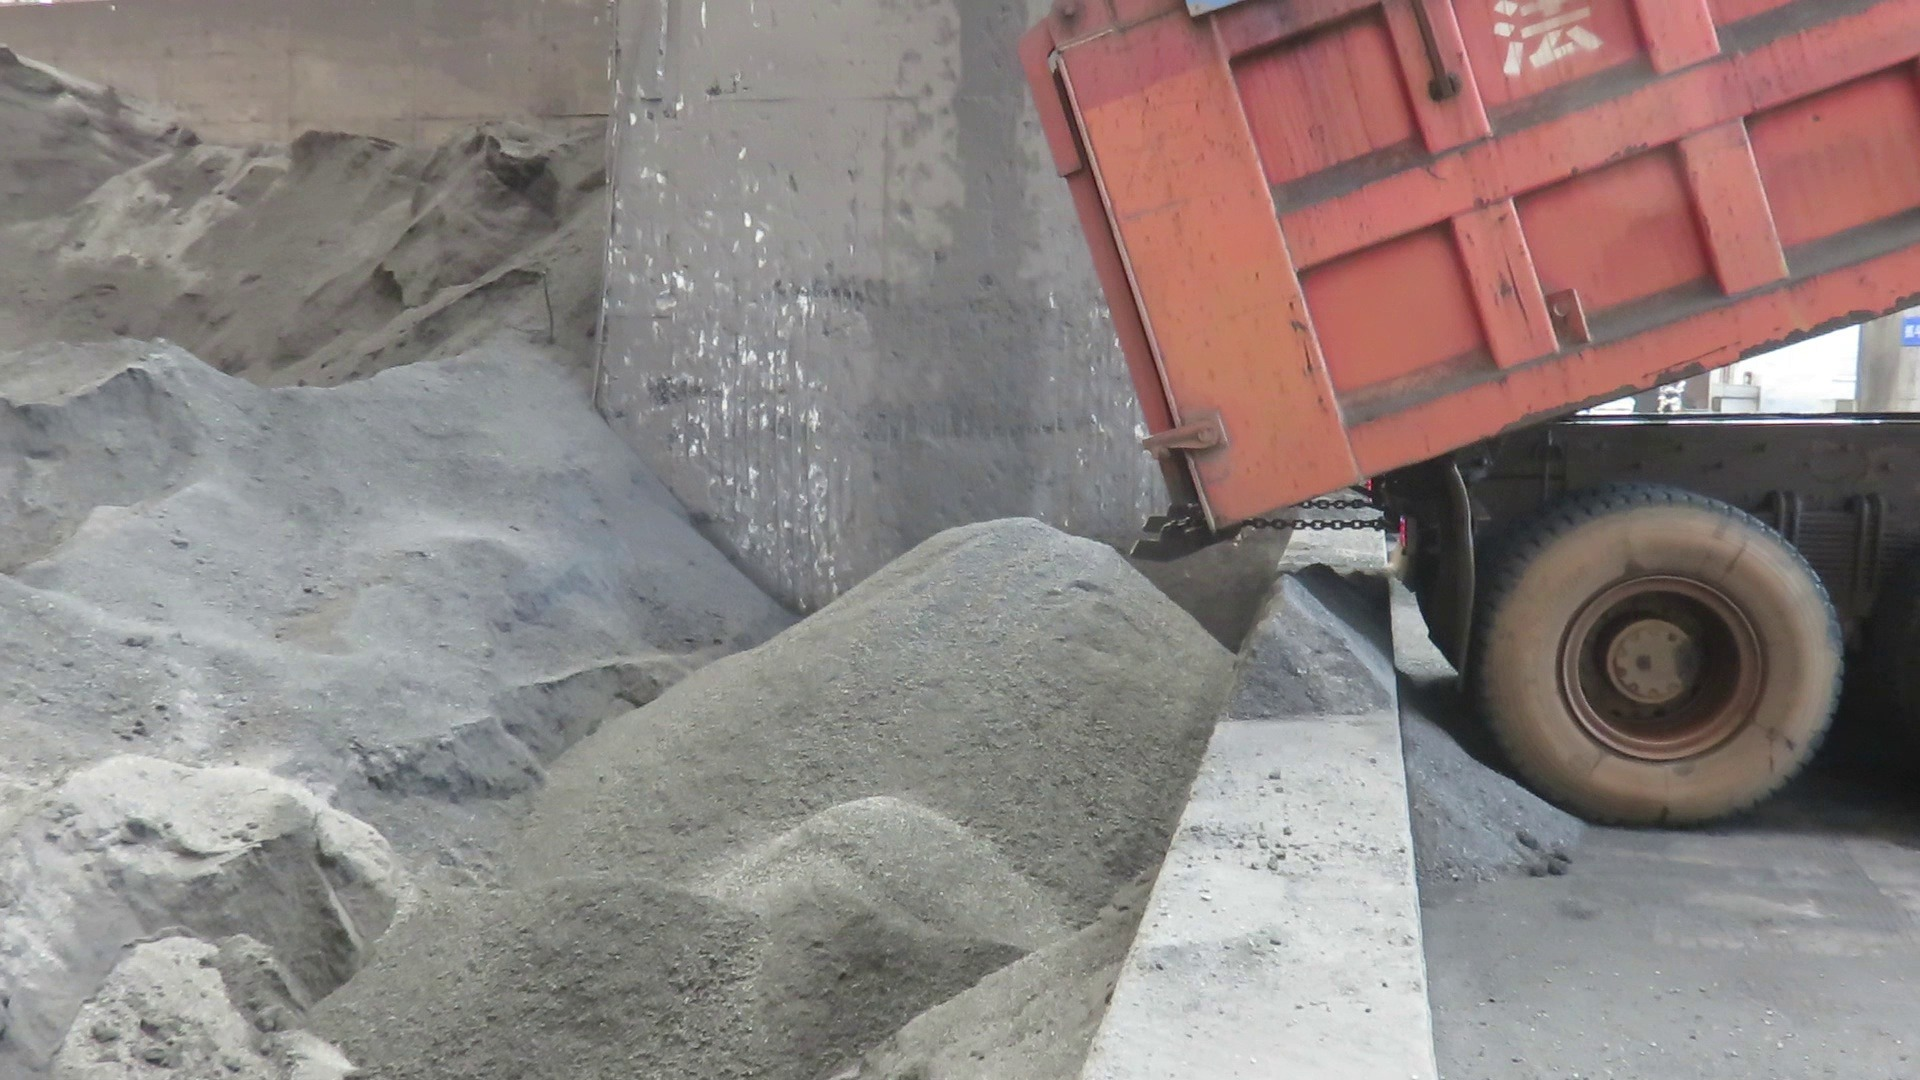truck: (996, 0, 1920, 851)
